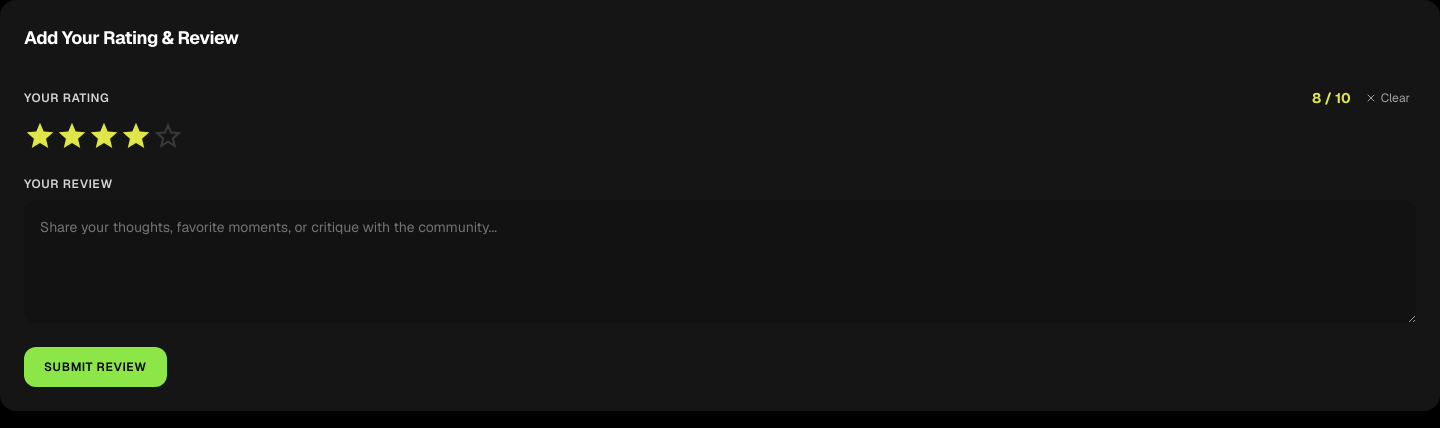
ReviewForm › clears selected rating via the Clear button
Expected: the text "8 / 10" is shown, top-left (1312, 88), bottom-right (1351, 108)
Click the button titled "clear" at (1387, 98), box top-left (1359, 88), bottom-right (1416, 108)
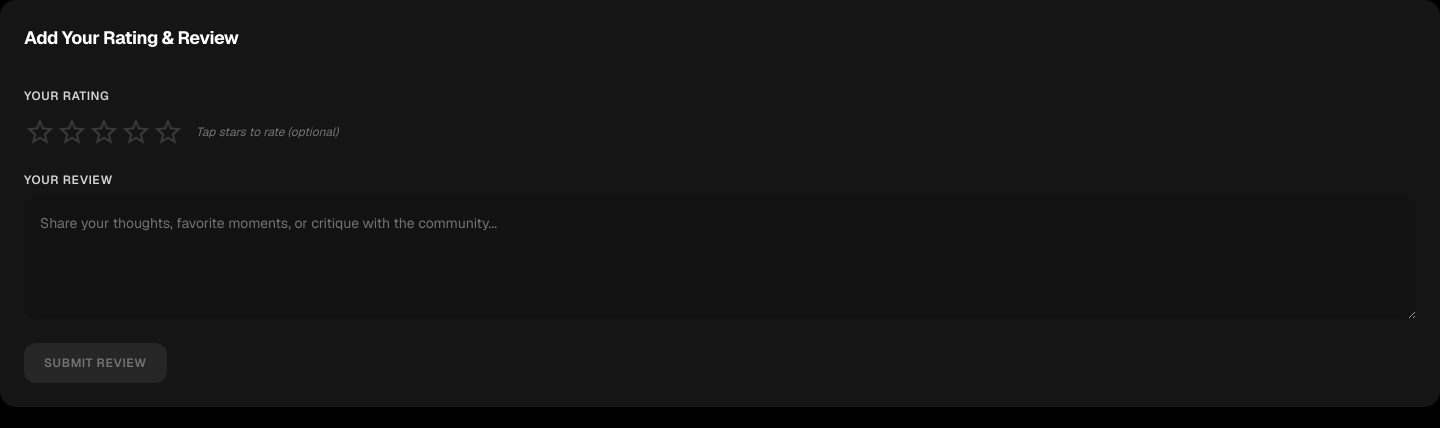
Now the text "8 / 10" is gone
